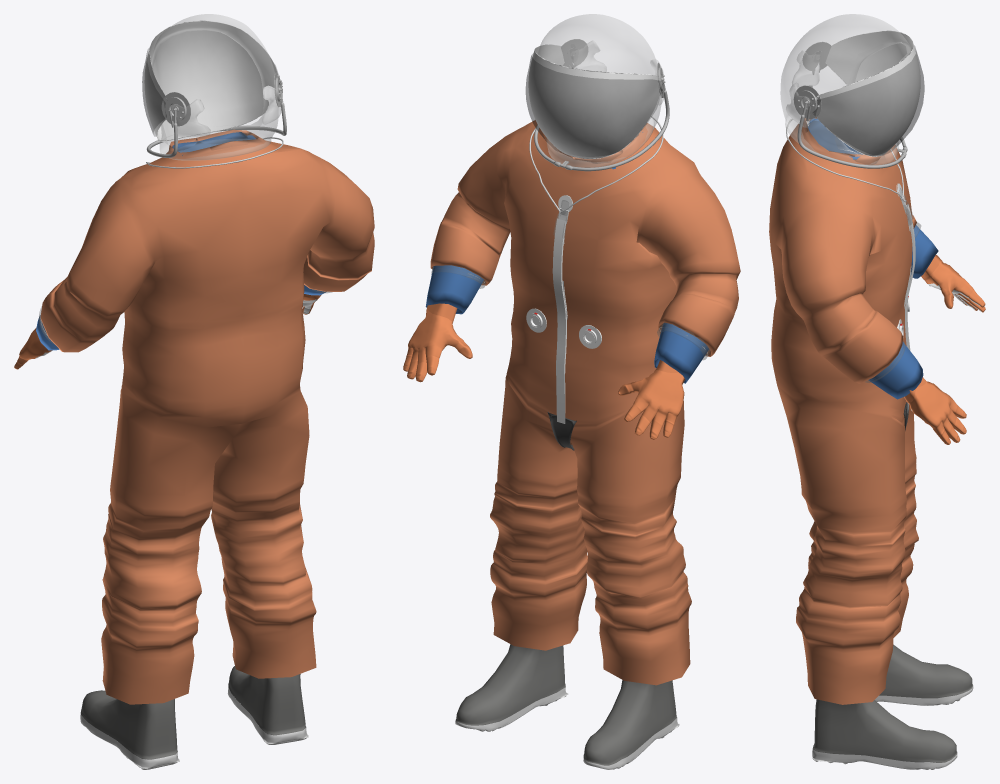
File: advanced-crew-escape-suit.glb
The picture shows the model from 3 angles, left to right: view 1: azimuth 30°, elevation 25°; view 2: azimuth 150°, elevation 25°; view 3: azimuth 270°, elevation 25°; orthographic projection. The views are drawn at different scales.
Parts seen in each view (by area): view 1: Advanced Crew Escape Suit; view 2: Advanced Crew Escape Suit; view 3: Advanced Crew Escape Suit.
Part boxes in pixels (box(x1,y1,x2,y2)): Advanced Crew Escape Suit: box(14, 14, 374, 769); Advanced Crew Escape Suit: box(403, 14, 740, 769); Advanced Crew Escape Suit: box(769, 14, 985, 769).
Bounding box in the file's own units: 0.8871 × 2 × 0.5548.
2 materials, 2 textured.
